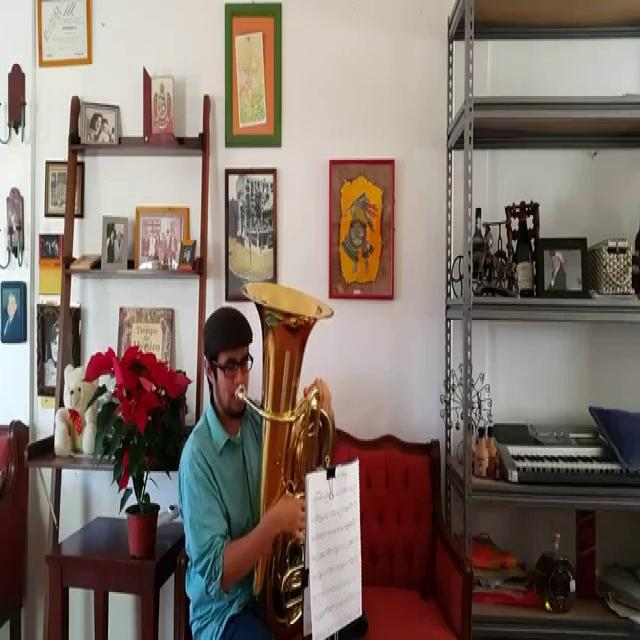Tuba: (240, 267, 336, 639)
